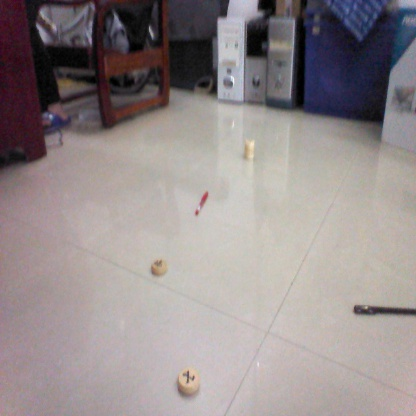chess: (177, 369, 199, 395), (148, 257, 169, 278), (243, 137, 259, 160)
pen: (353, 302, 416, 317), (194, 189, 211, 217)
